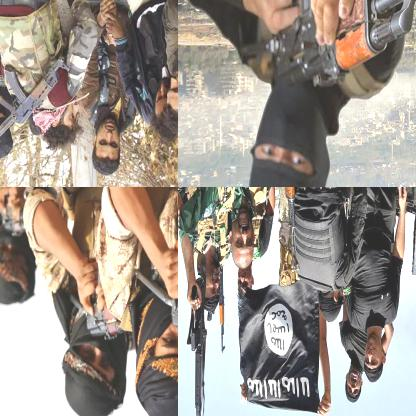rifle: (265, 0, 415, 100), (129, 209, 177, 365), (0, 56, 72, 150), (265, 187, 306, 271), (186, 281, 210, 415), (216, 262, 229, 354)
